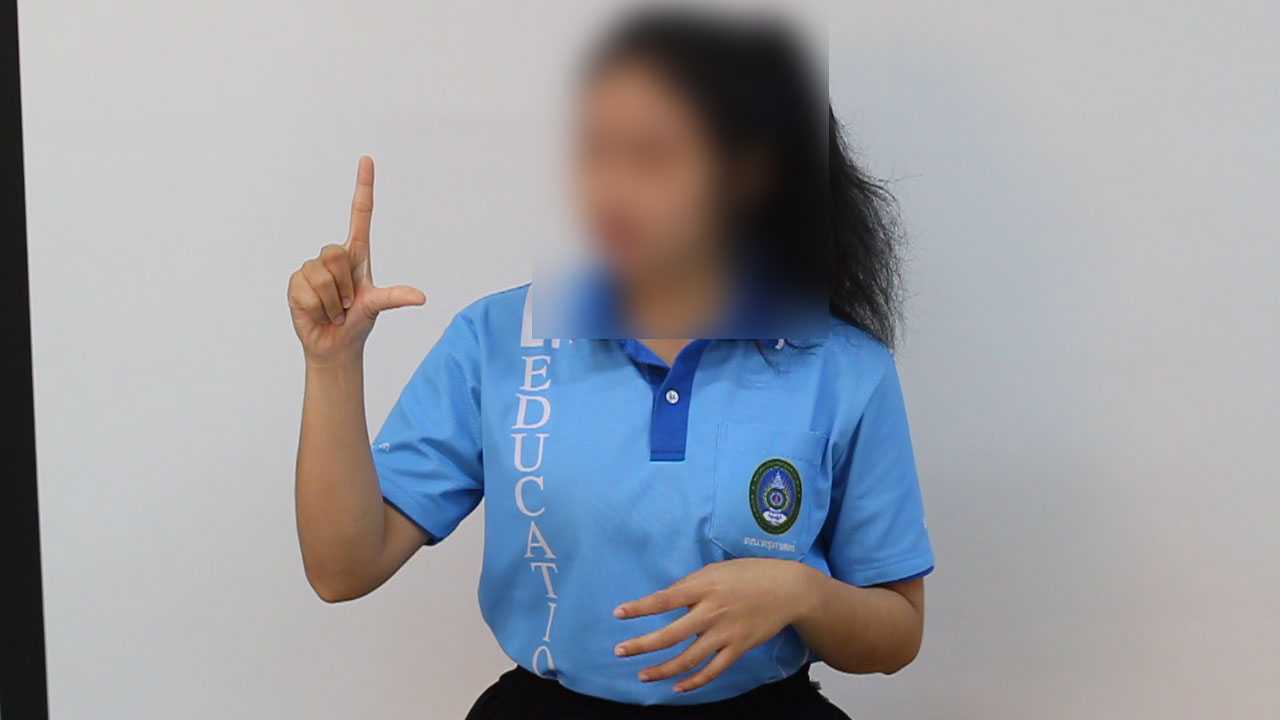lor: (228, 111, 458, 364)
